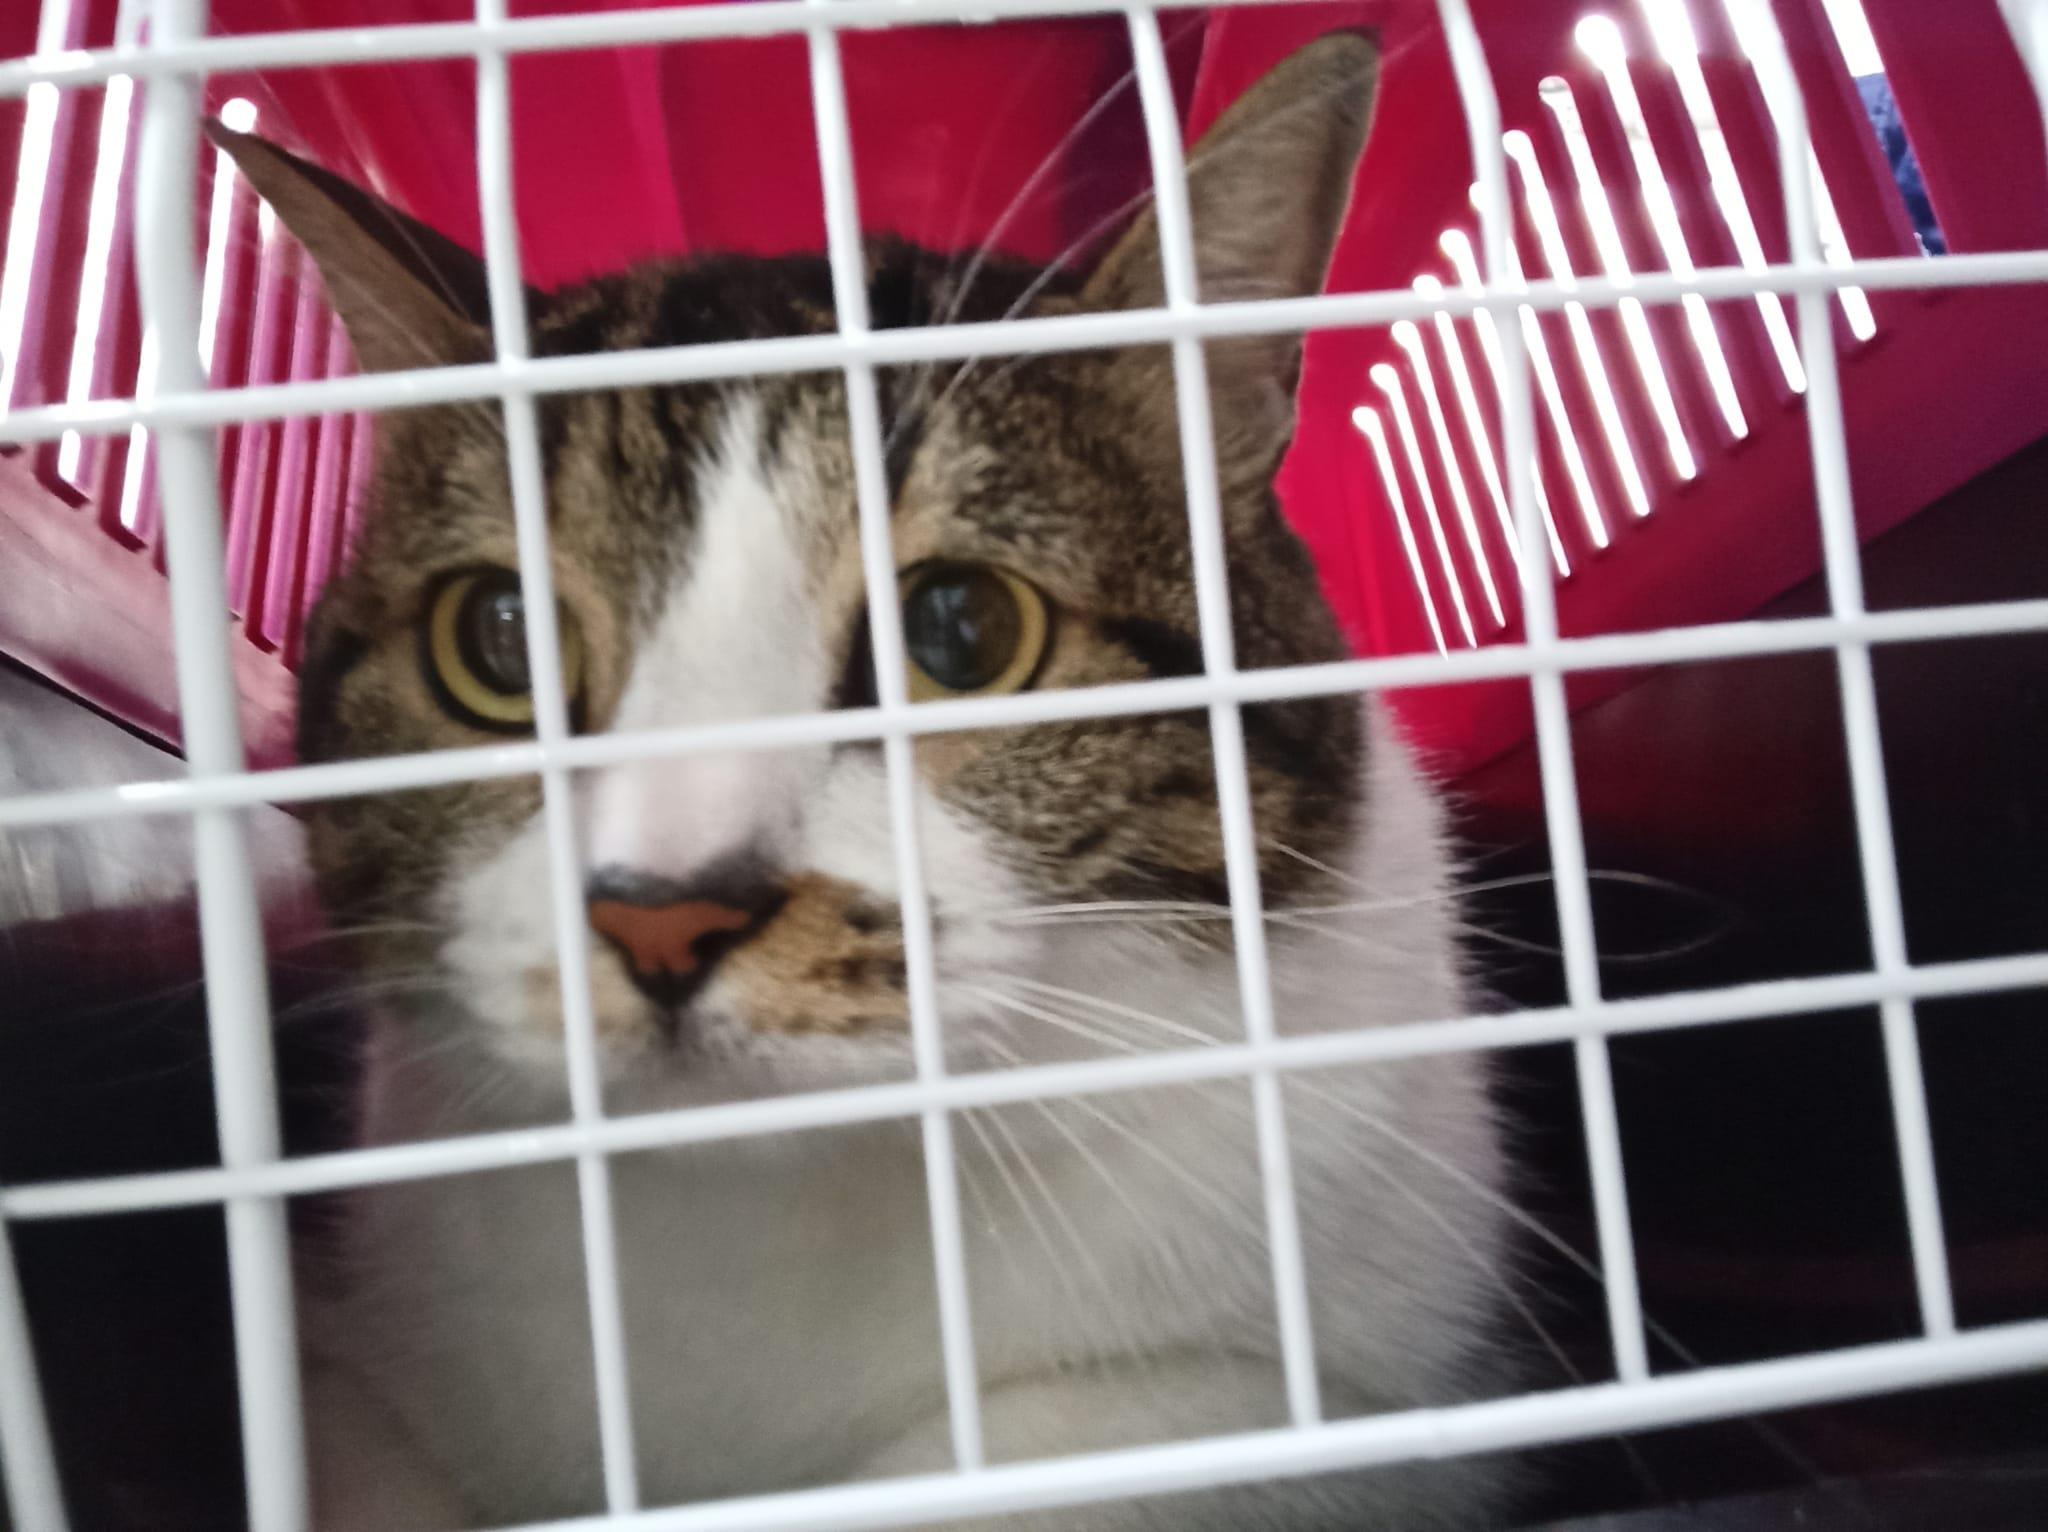kedo: (190, 14, 1495, 1431)
